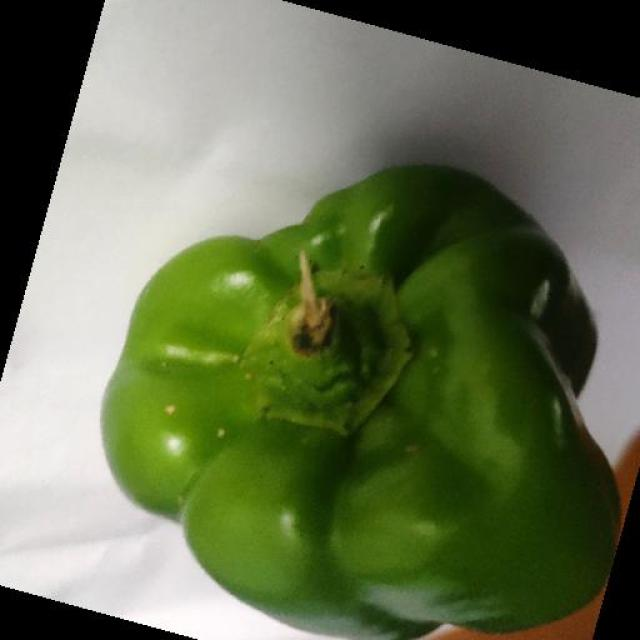Fresh_Capsicum: (133, 225, 529, 562)
